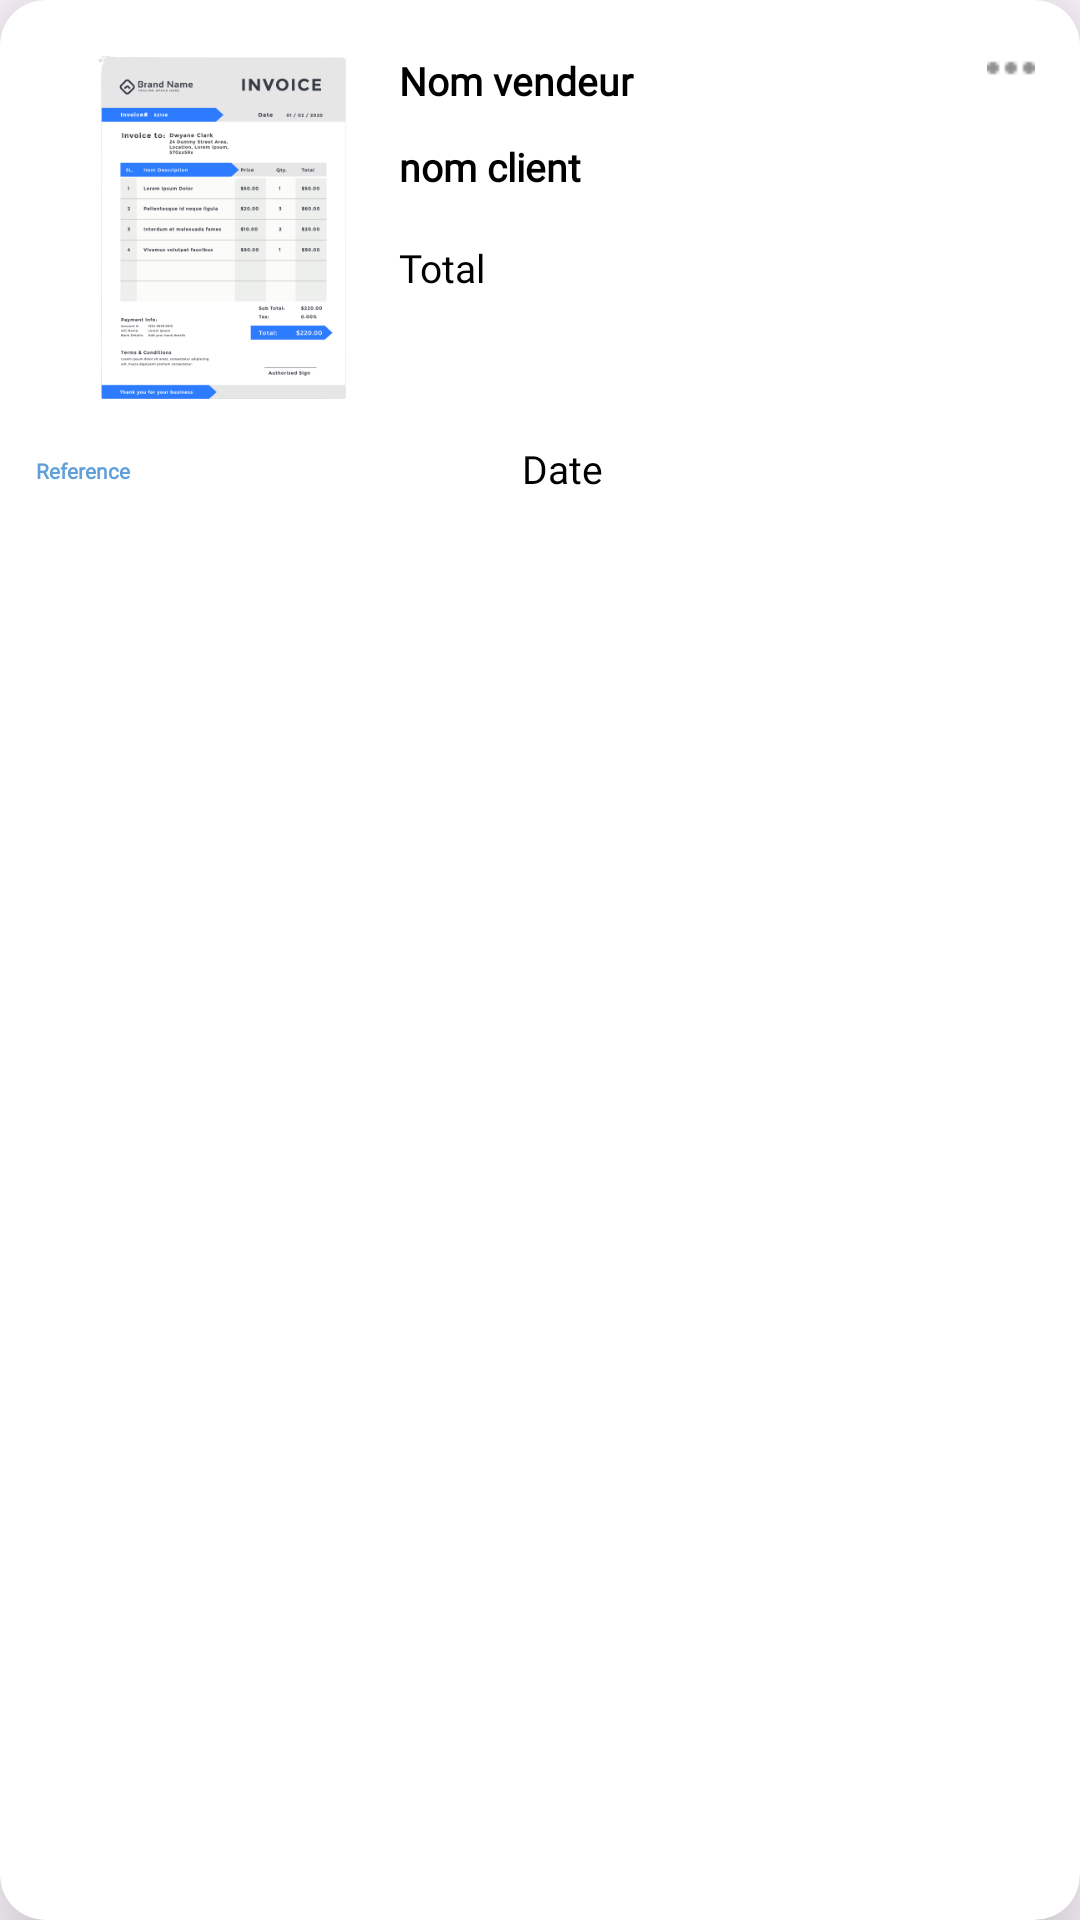

Where icons sit on this 1080px x 1920px app screen, as BBox(x1, y1, x2, y2):
dotsv: BBox(987, 61, 1035, 75)
